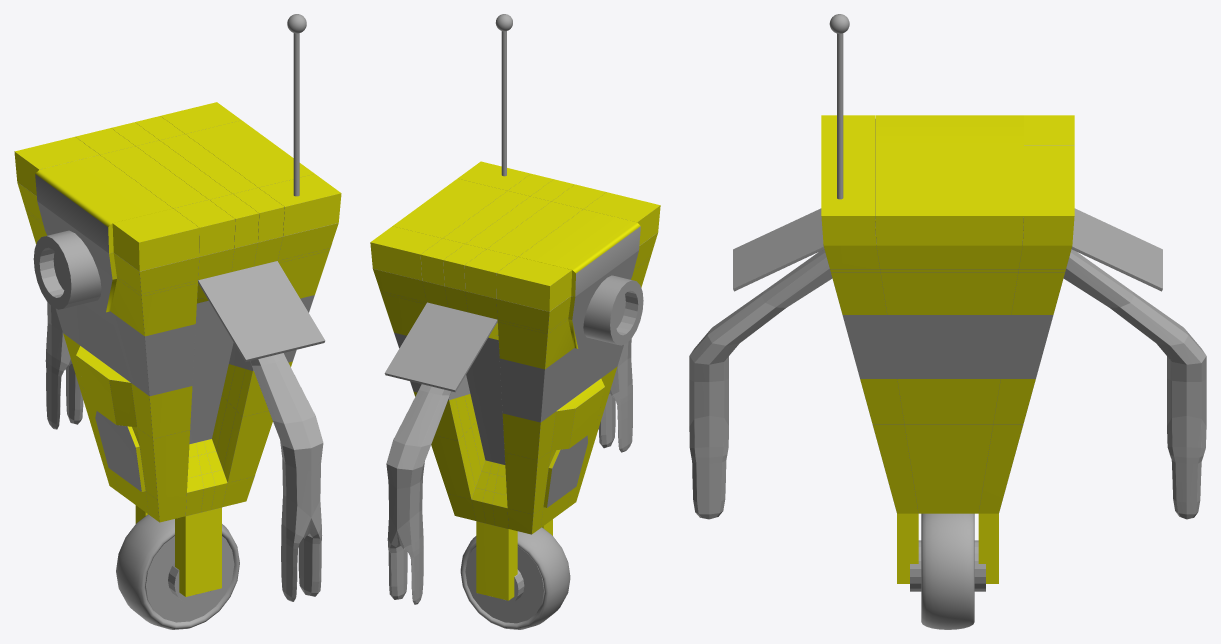
Rendered from beebo.fbx.
3 views of the same model, side by side, from view 1: azimuth 30°, elevation 25°; view 2: azimuth 150°, elevation 25°; view 3: azimuth 270°, elevation 25° (orthographic). The views are drawn at different scales.
Visible parts, largest first — view 1: pCylinder4; view 2: pCylinder4; view 3: pCylinder4.
Part boxes in pixels (x1,y1,x2,y2): pCylinder4: [14, 14, 341, 629]; pCylinder4: [370, 14, 660, 629]; pCylinder4: [689, 14, 1206, 629].
Bounding box in the file's own units: 2.61 × 6.95 × 5.07.
